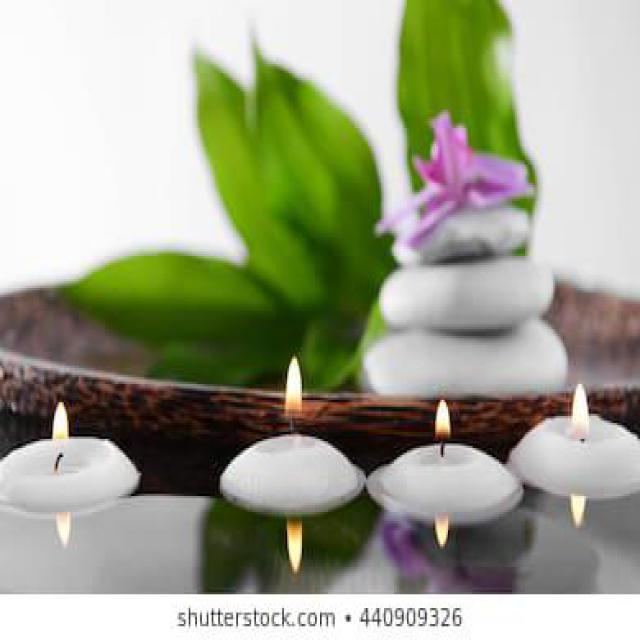Fire: (284, 356, 302, 424), (571, 380, 591, 438), (286, 515, 303, 575), (53, 401, 70, 458), (435, 398, 450, 444), (435, 512, 450, 549)
